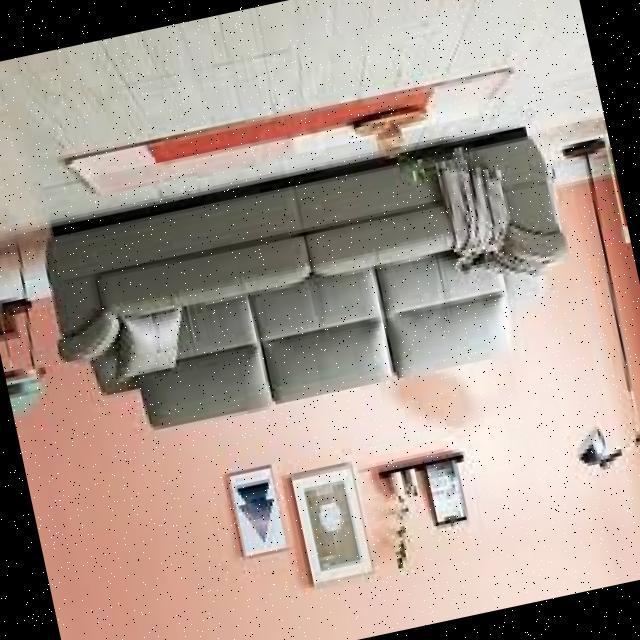Sofa: (25, 96, 612, 478)
